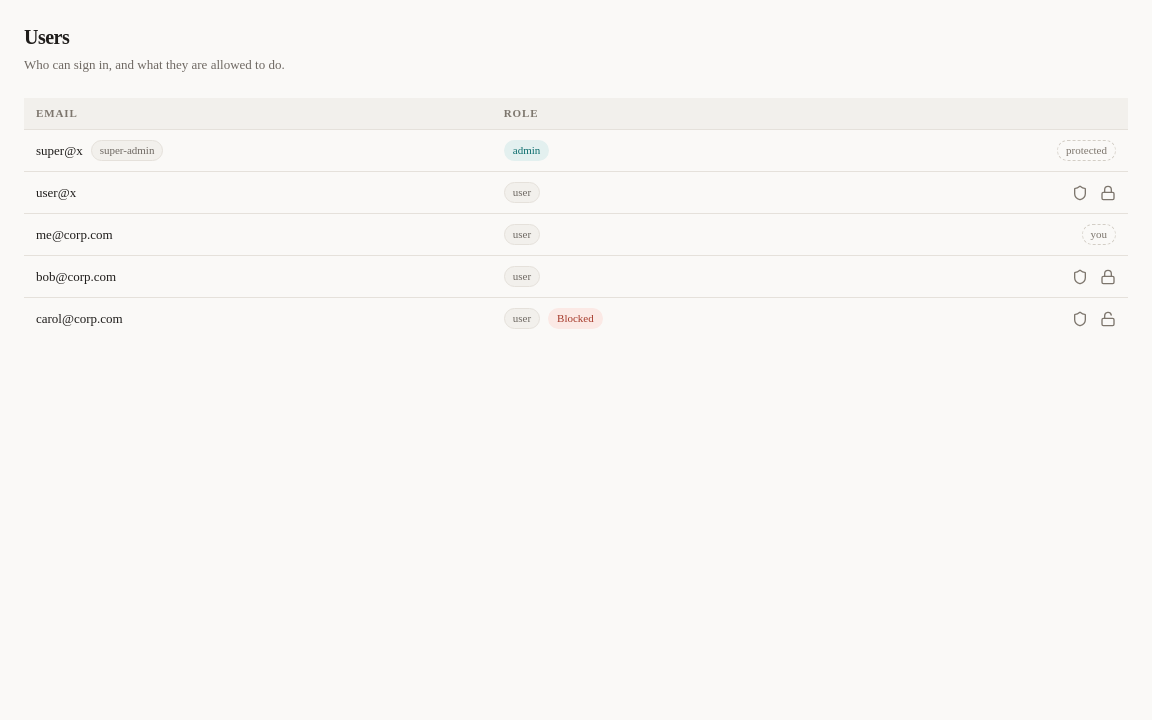
Test case: UsersManager › asks before blocking someone, and sends nothing if the admin cancels
The image size is (1152, 720).
Click the button named "Block bob@corp.com" at (1108, 276), box left=1100, top=268, right=1116, bottom=284
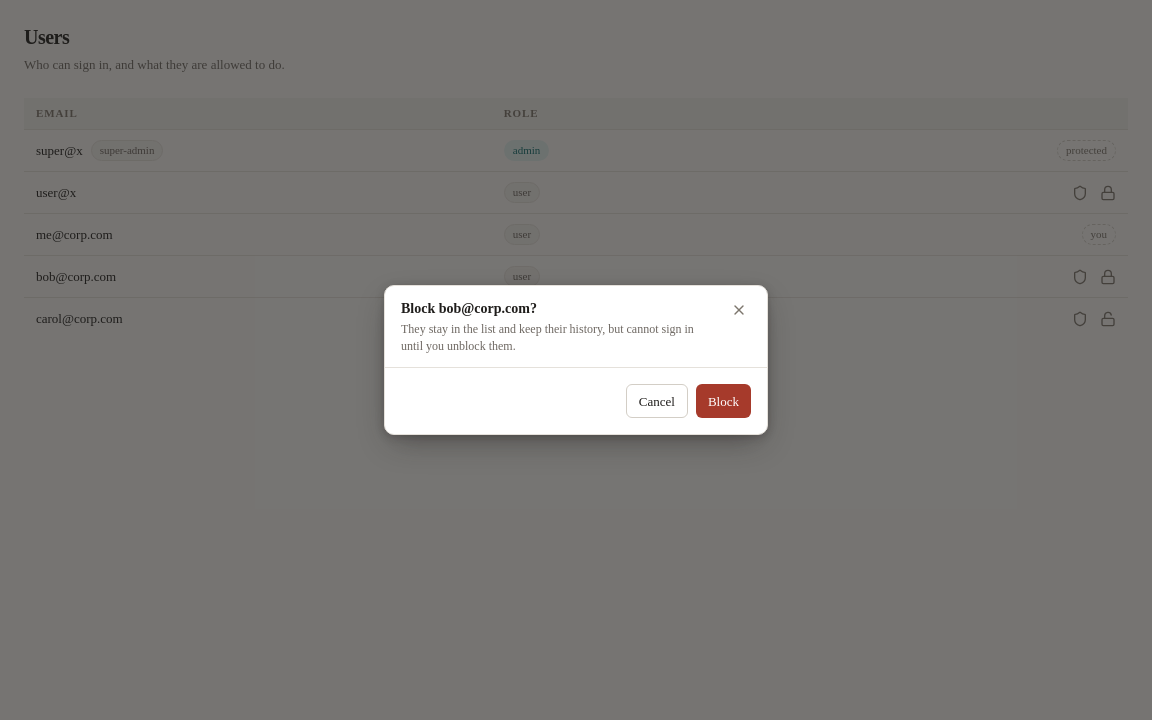
Check: the heading "Block bob@corp.com?" is shown, box left=401, top=301, right=537, bottom=316
Click the button "Cancel" at (657, 401), box left=626, top=384, right=688, bottom=418
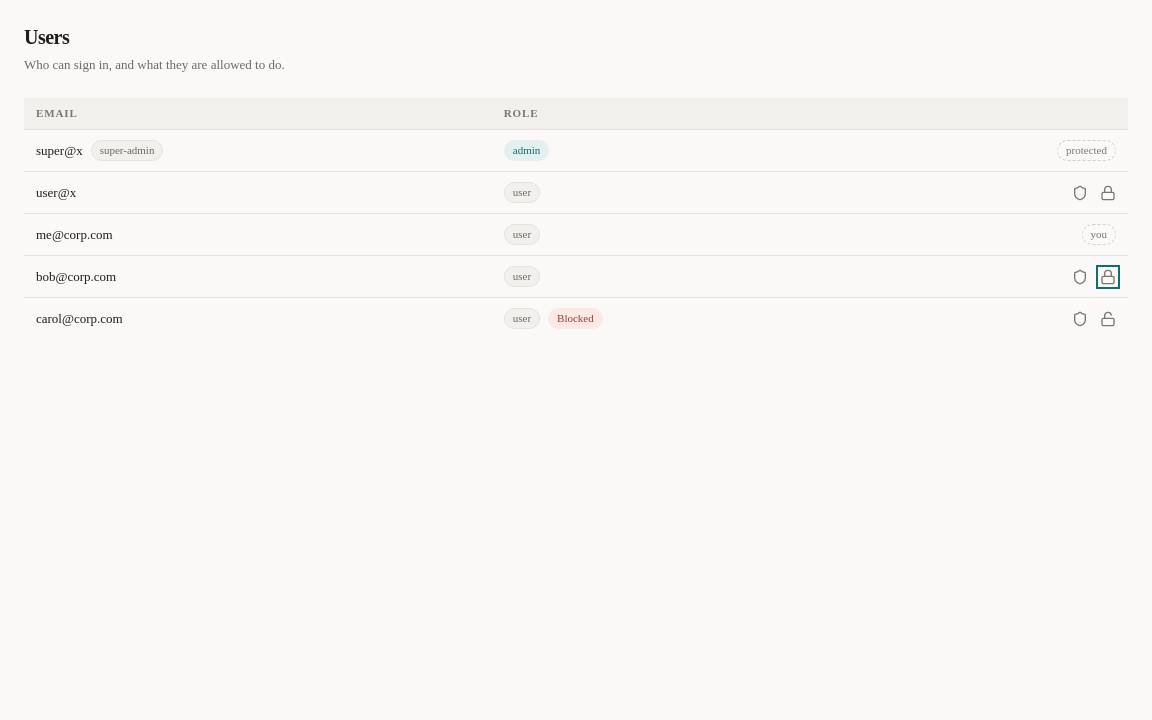
Check: the heading "Block bob@corp.com?" is gone
